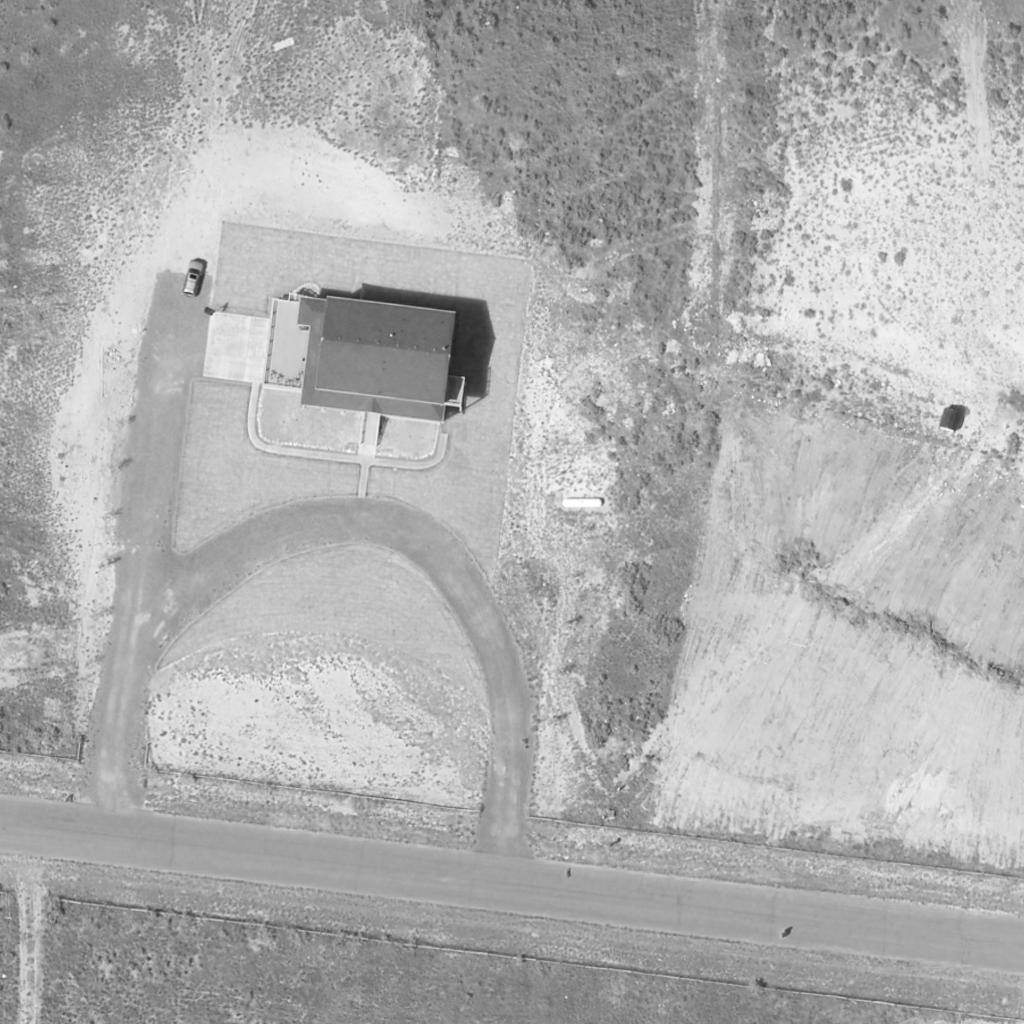vehicle: (180, 258, 208, 298)
